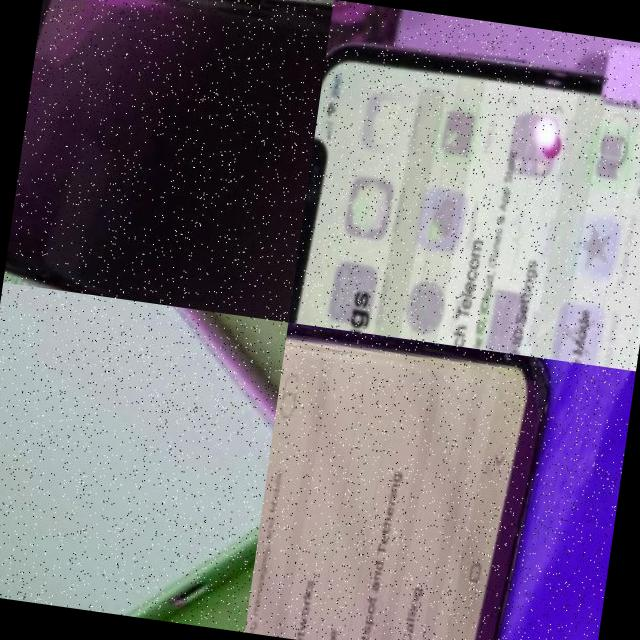screen crack: (414, 342, 568, 486)
